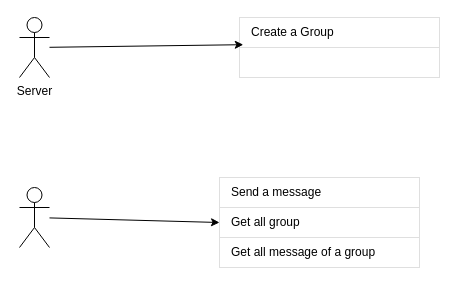
This 457x286 diagram has some shape labels left out. The shapes that lost their labels are listed below. From the top down, each one's centre as x and y in pixels, then its label:
point 339,62: Delete a group
point 34,217: Client
